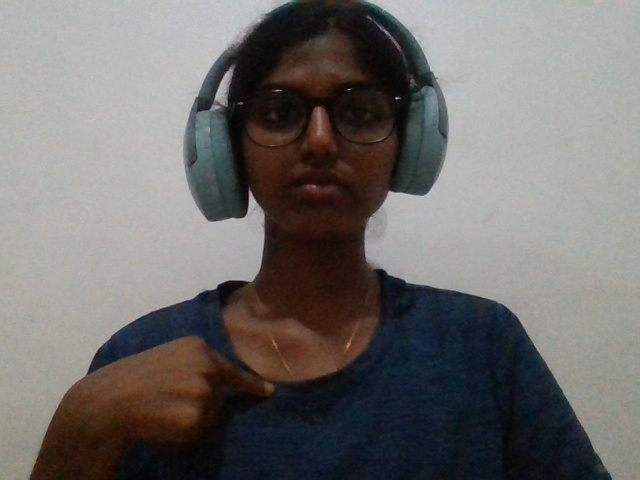Me: (23, 309, 333, 480)
